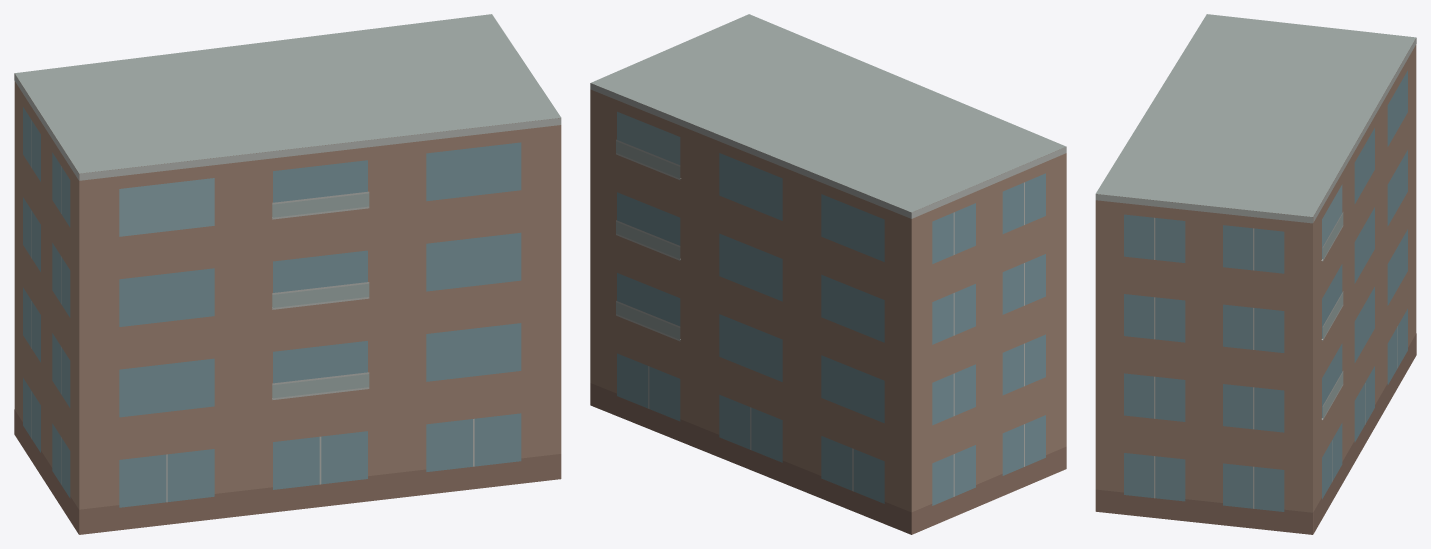
Rendered from survey-upis-32545761.glb.
3 renders of one model, left to right at view 1: azimuth 30°, elevation 25°; view 2: azimuth 150°, elevation 25°; view 3: azimuth 270°, elevation 25°, orthographic. The views are drawn at different scales.
Visible parts, largest first — view 1: survey-upis-32545761.tmp; view 2: survey-upis-32545761.tmp; view 3: survey-upis-32545761.tmp.
Boxes of the visible parts, x1,y1,x2,y2 form: survey-upis-32545761.tmp: [14, 14, 561, 534]; survey-upis-32545761.tmp: [590, 14, 1066, 534]; survey-upis-32545761.tmp: [1095, 14, 1416, 534].
Size of the model in its own units: 16.73 by 12.2 by 11.18.
